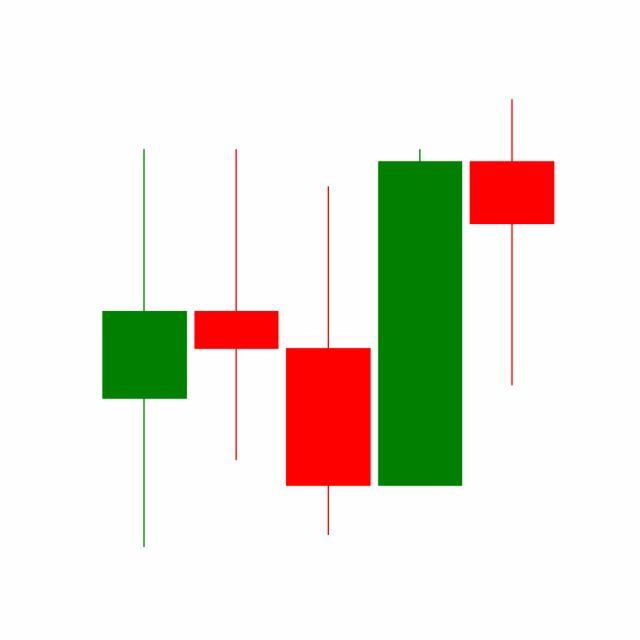Marubozu: (374, 146, 468, 489)
